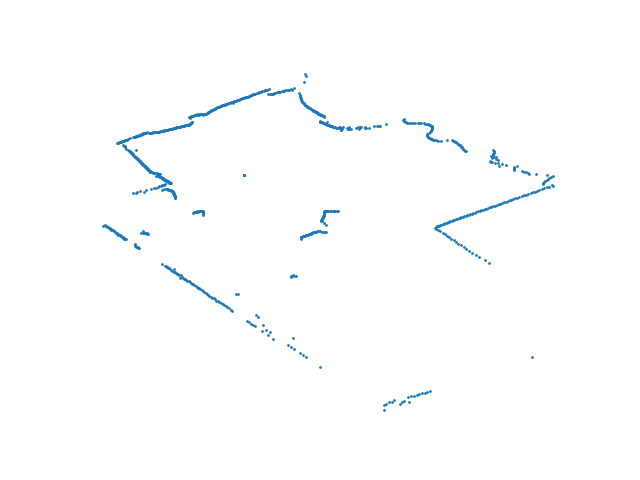person: (298, 208, 342, 242)
